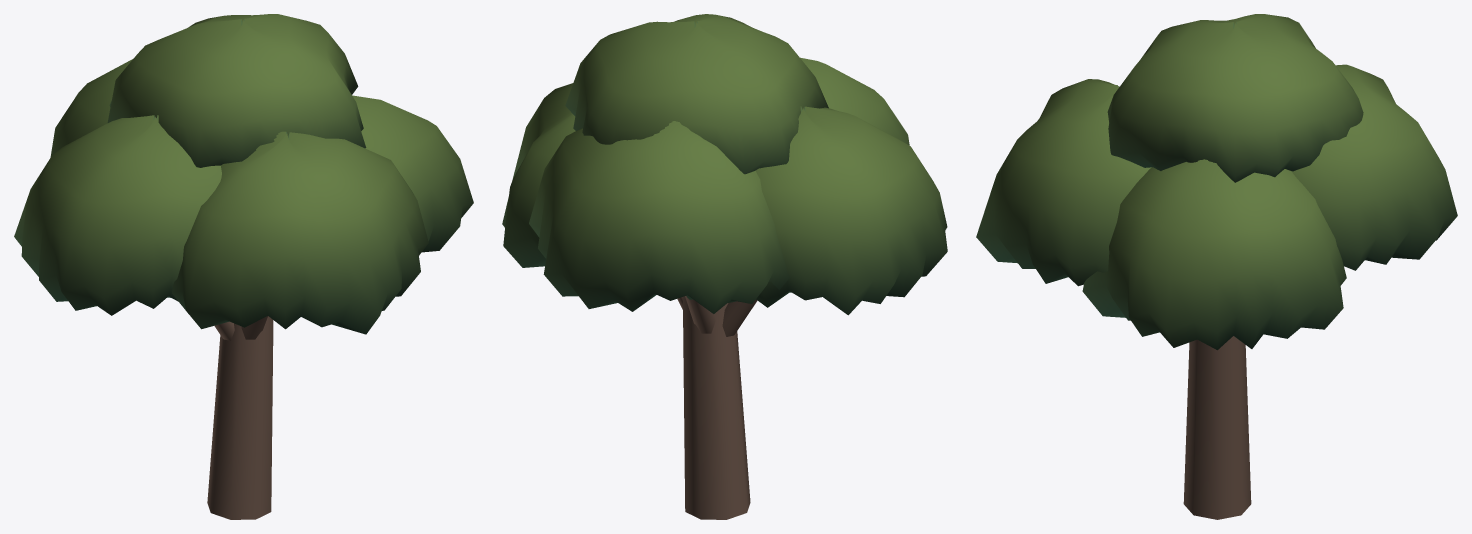
The model's file is round_linden.glb.
3 views of the same model, side by side, from view 1: azimuth 30°, elevation 25°; view 2: azimuth 150°, elevation 25°; view 3: azimuth 270°, elevation 25° (orthographic). The views are drawn at different scales.
Visible parts, largest first — view 1: Occlude_Canopy_2_Mesh, Occlude_Canopy_3_Mesh, Occlude_Canopy_1_Mesh, Keep_Mesh, Occlude_Canopy_0_Mesh; view 2: Occlude_Canopy_1_Mesh, Occlude_Canopy_0_Mesh, Occlude_Canopy_2_Mesh, Keep_Mesh, Occlude_Canopy_3_Mesh; view 3: Occlude_Canopy_0_Mesh, Occlude_Canopy_3_Mesh, Keep_Mesh, Occlude_Canopy_2_Mesh, Occlude_Canopy_1_Mesh.
Boxes of the visible parts, bbox=[...] form: Occlude_Canopy_2_Mesh: bbox=[39, 22, 349, 329]; Occlude_Canopy_3_Mesh: bbox=[242, 20, 473, 334]; Occlude_Canopy_1_Mesh: bbox=[14, 19, 241, 279]; Keep_Mesh: bbox=[207, 316, 273, 519]; Occlude_Canopy_0_Mesh: bbox=[188, 14, 358, 94]; Occlude_Canopy_1_Mesh: bbox=[604, 23, 922, 315]; Occlude_Canopy_0_Mesh: bbox=[502, 18, 743, 308]; Occlude_Canopy_2_Mesh: bbox=[699, 21, 947, 276]; Keep_Mesh: bbox=[677, 296, 757, 519]; Occlude_Canopy_3_Mesh: bbox=[513, 14, 750, 176]; Occlude_Canopy_0_Mesh: bbox=[1196, 20, 1457, 349]; Occlude_Canopy_3_Mesh: bbox=[976, 22, 1233, 350]; Keep_Mesh: bbox=[1183, 336, 1251, 519]; Occlude_Canopy_2_Mesh: bbox=[1018, 20, 1217, 138]; Occlude_Canopy_1_Mesh: bbox=[1210, 14, 1416, 121].
Bounding box in the file's own units: 2.63 × 2.94 × 2.62.
